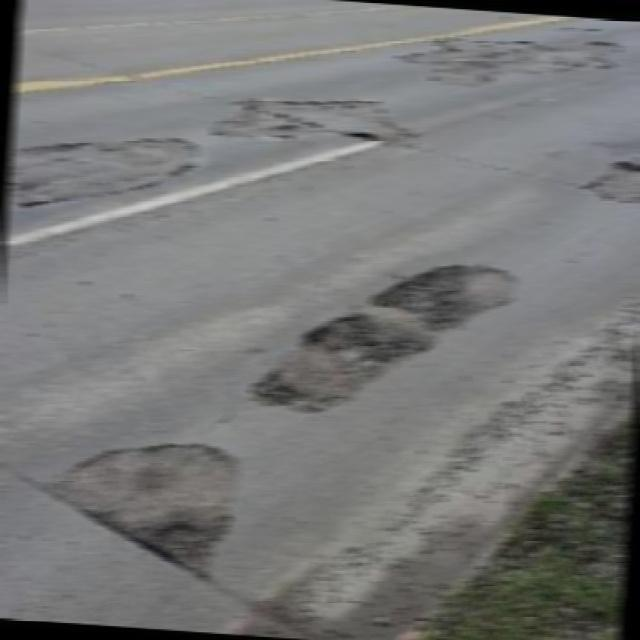Pothole: (42, 444, 249, 574), (254, 319, 438, 423), (11, 133, 213, 219), (387, 21, 632, 90), (198, 89, 427, 161), (366, 257, 528, 331), (557, 147, 640, 208)
